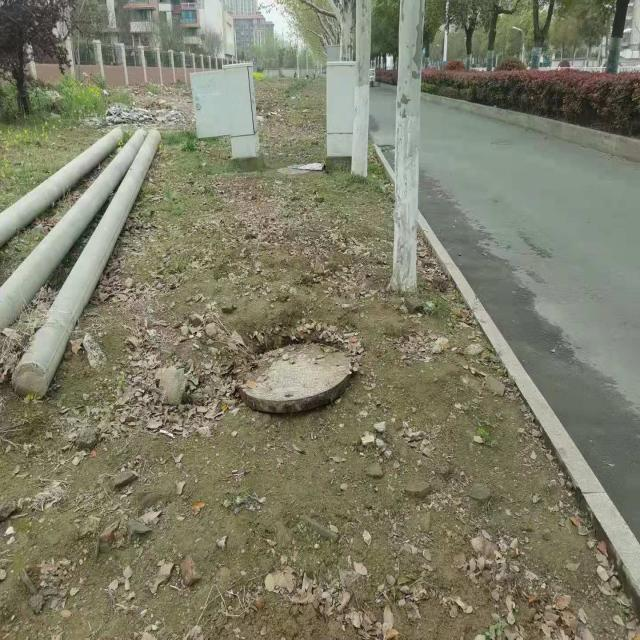Lose: (236, 345, 352, 416)
